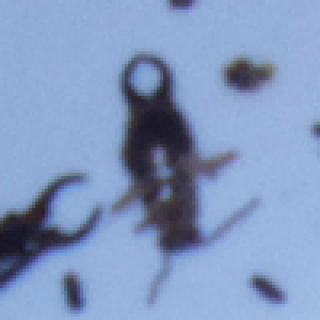earwig: (110, 50, 265, 308), (0, 167, 102, 296)
